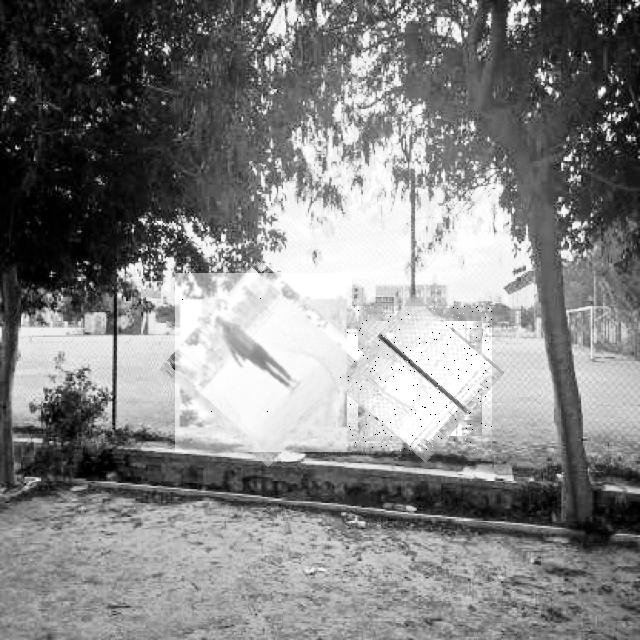anomaly-fence: (175, 273, 352, 452), (347, 306, 492, 451)
